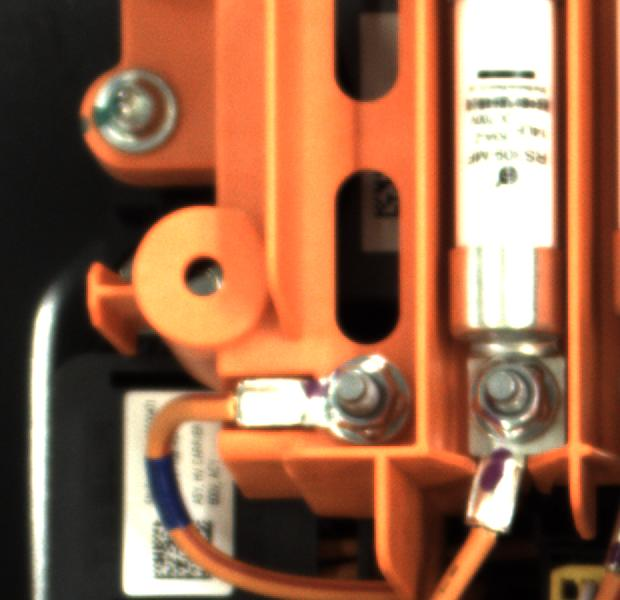screw_m: (79, 60, 191, 158)
screw_s: (464, 347, 561, 445), (305, 351, 403, 436)
